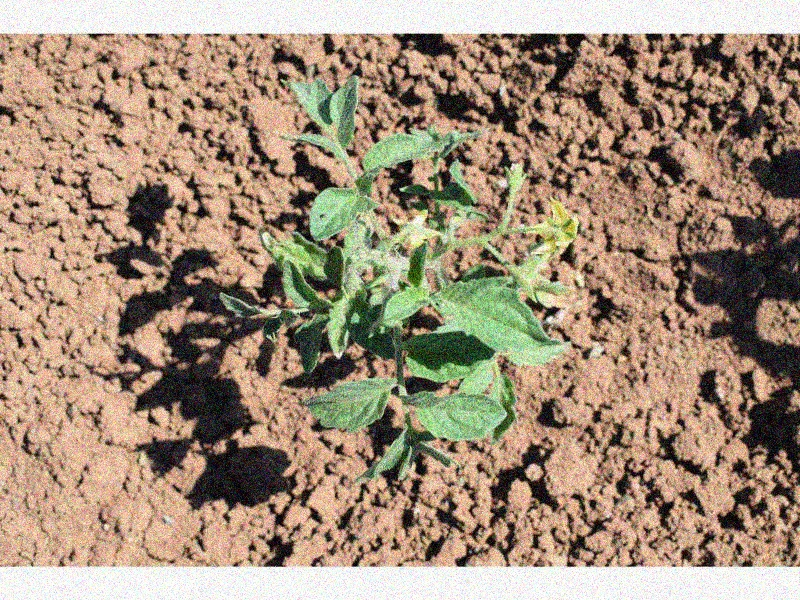tomato: (221, 74, 581, 483)
